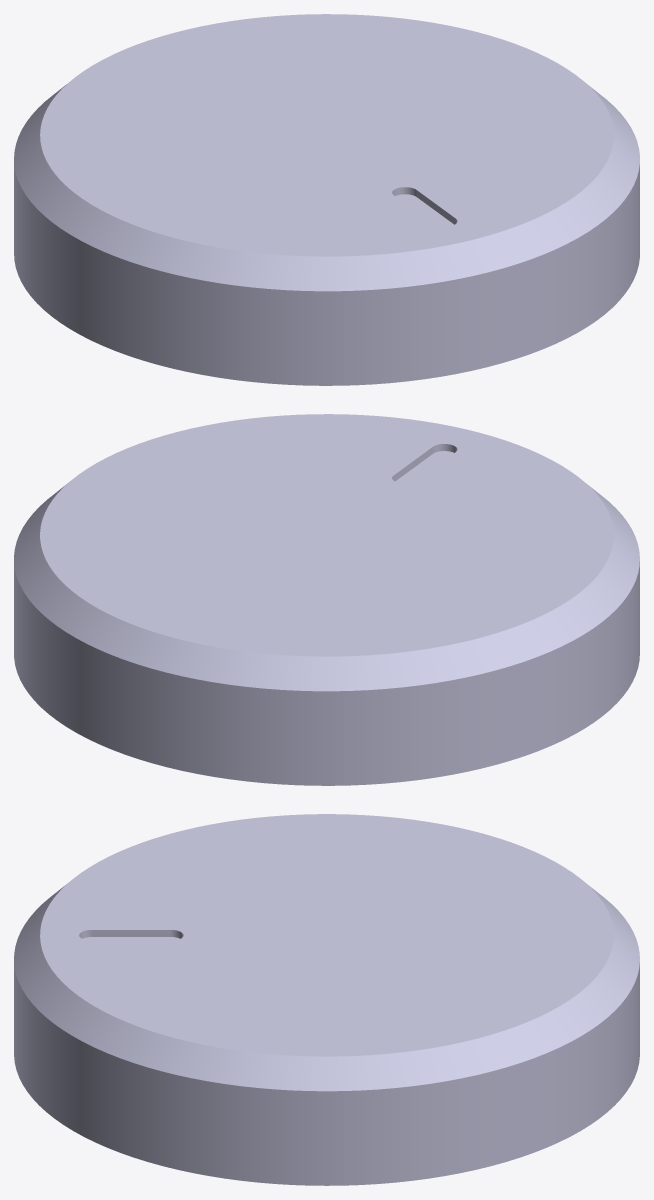
The model's file is Keyboard-WheelPad.gltf.
3 renders of one model, top to bottom at view 1: azimuth 30°, elevation 25°; view 2: azimuth 150°, elevation 25°; view 3: azimuth 270°, elevation 25°, orthographic.
Parts seen in each view (by area): view 1: Wheel; view 2: Wheel; view 3: Wheel.
Part boxes in pixels (box(x1,y1,x2,y2)): Wheel: box(14, 14, 639, 385); Wheel: box(14, 414, 639, 785); Wheel: box(14, 814, 639, 1185).
Bounding box in the file's own units: 0.024 × 0.005 × 0.024.
